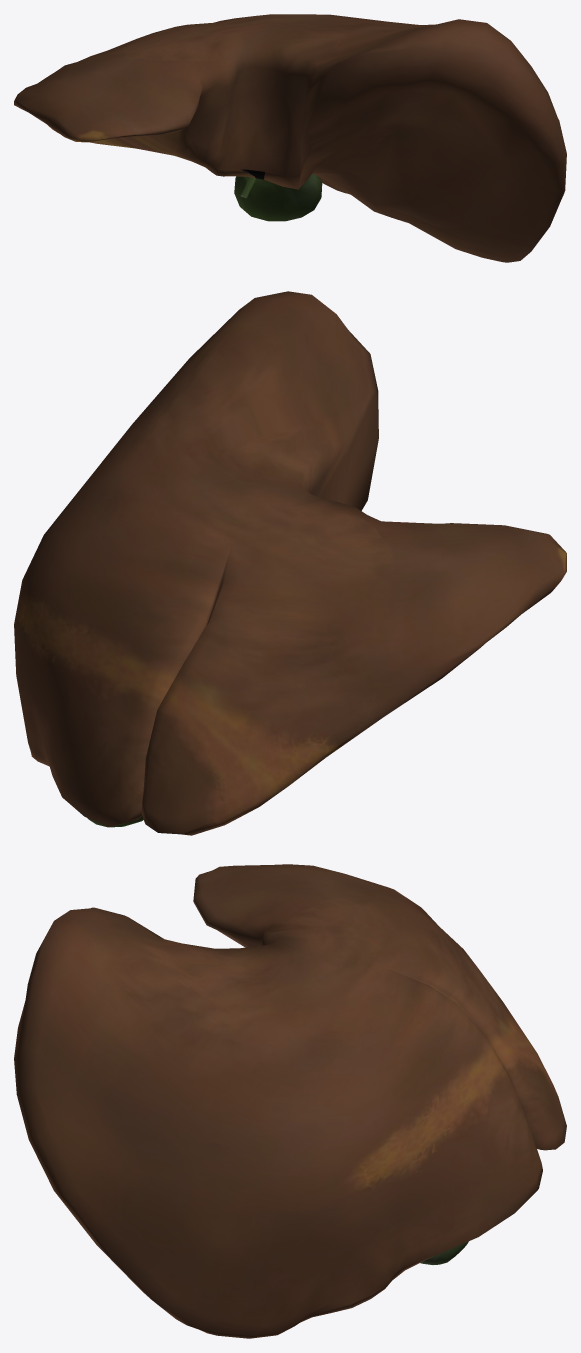
The model's file is editedLiver.fbx.
3 views of the same model, one above another, from view 1: azimuth 30°, elevation 25°; view 2: azimuth 150°, elevation 25°; view 3: azimuth 270°, elevation 25° (orthographic). The views are drawn at different scales.
Parts seen in each view (by area): view 1: node_Liver_-994, node_Group53789_10674; view 2: node_Liver_-994; view 3: node_Liver_-994.
Part boxes in pixels (box(x1,y1,x2,y2)): node_Liver_-994: box(14, 14, 566, 262); node_Group53789_10674: box(234, 174, 322, 221); node_Liver_-994: box(14, 291, 566, 835); node_Liver_-994: box(14, 864, 566, 1338).
Size of the model in its own units: 564 by 401 by 571.
